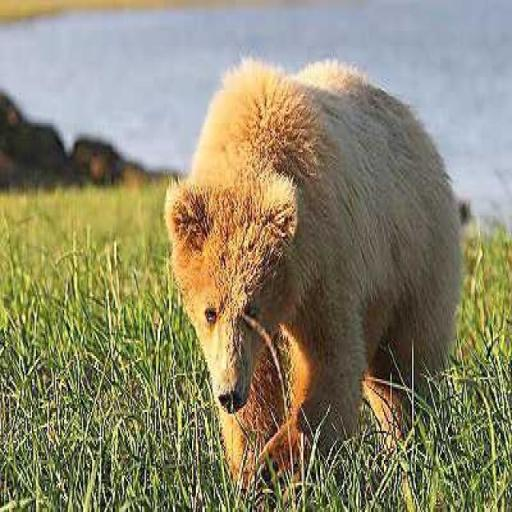Bear: (162, 54, 470, 499)
